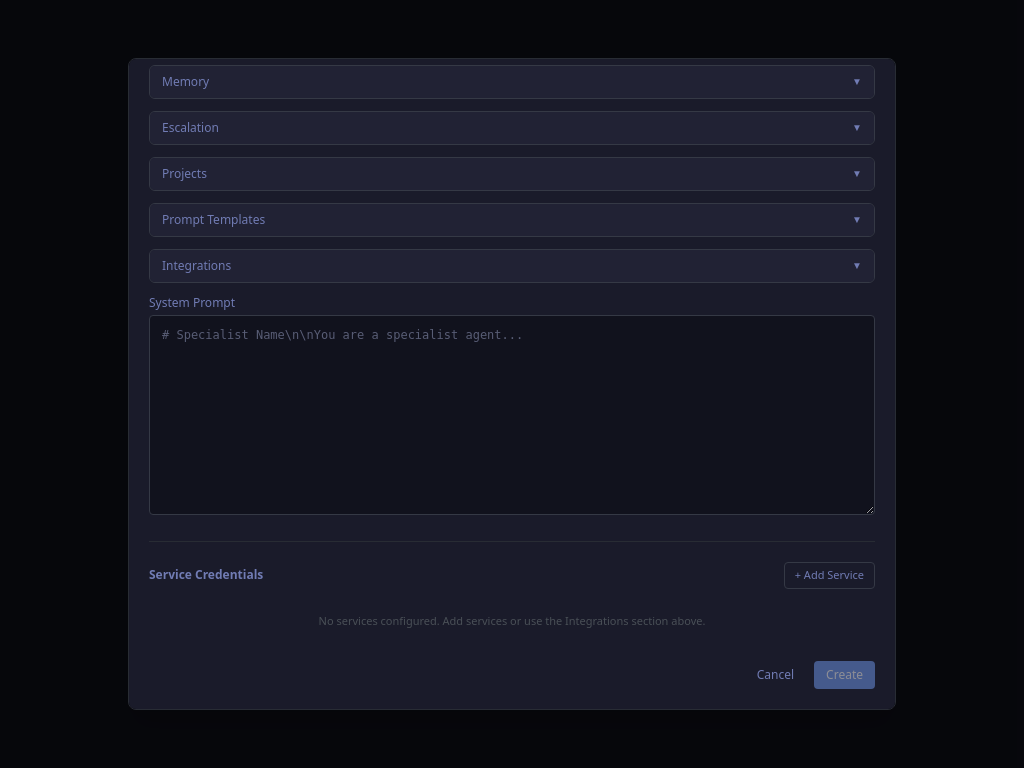
AddSpecialistDialog › should allow adding a service with credential key-value pairs
(page scrolled)
Click the button with test id "specialist-add-service-btn" at {"x": 829, "y": 575}, box [784,562,875,589]
(page scrolled)
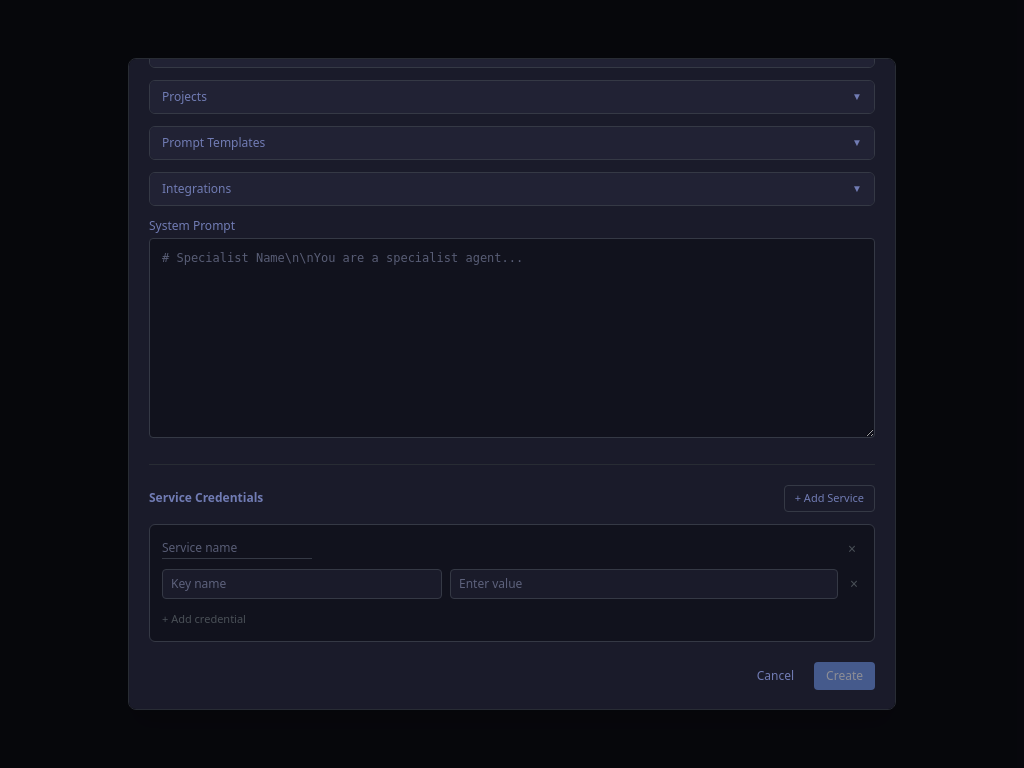
Expected: the field with test id "specialist-service-name-0" is shown, [162,538,312,559]
Expected: the field with test id "specialist-credential-key-0-0" is shown, [162,569,442,599]
Expected: the field with test id "specialist-credential-value-0-0" is shown, [450,569,838,599]
